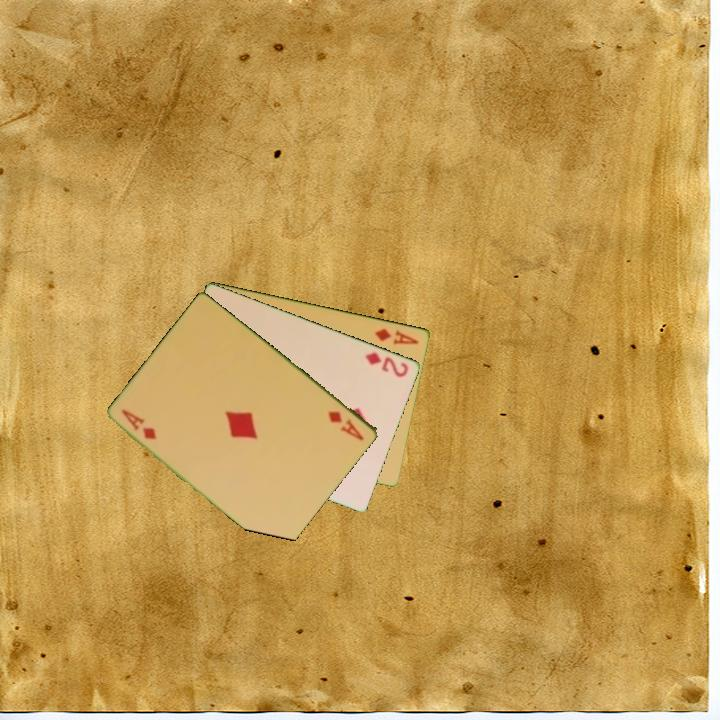2d: (362, 348, 411, 380)
Ad: (325, 407, 367, 443), (118, 406, 160, 442), (372, 324, 422, 347)
